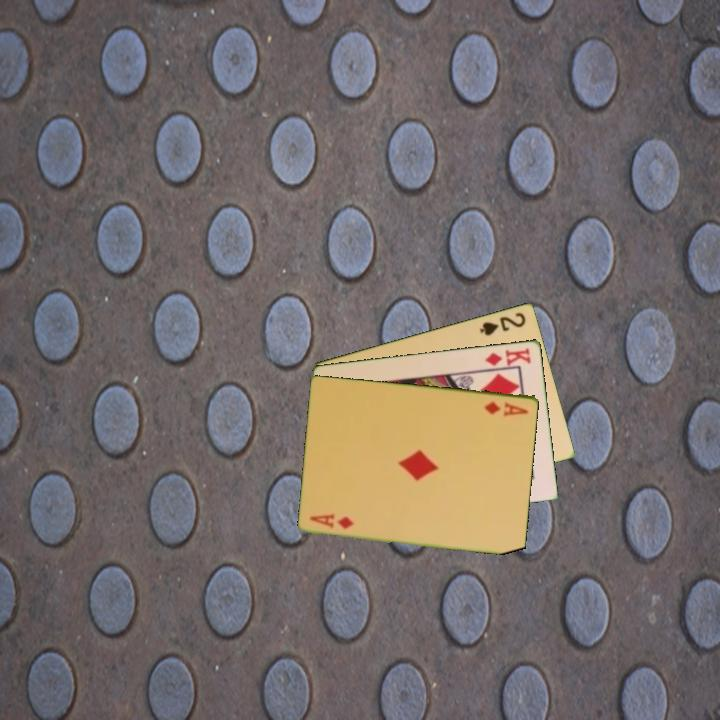2s: (476, 309, 529, 338)
Ad: (481, 398, 532, 419), (306, 511, 357, 531)
Kd: (481, 344, 534, 369)
